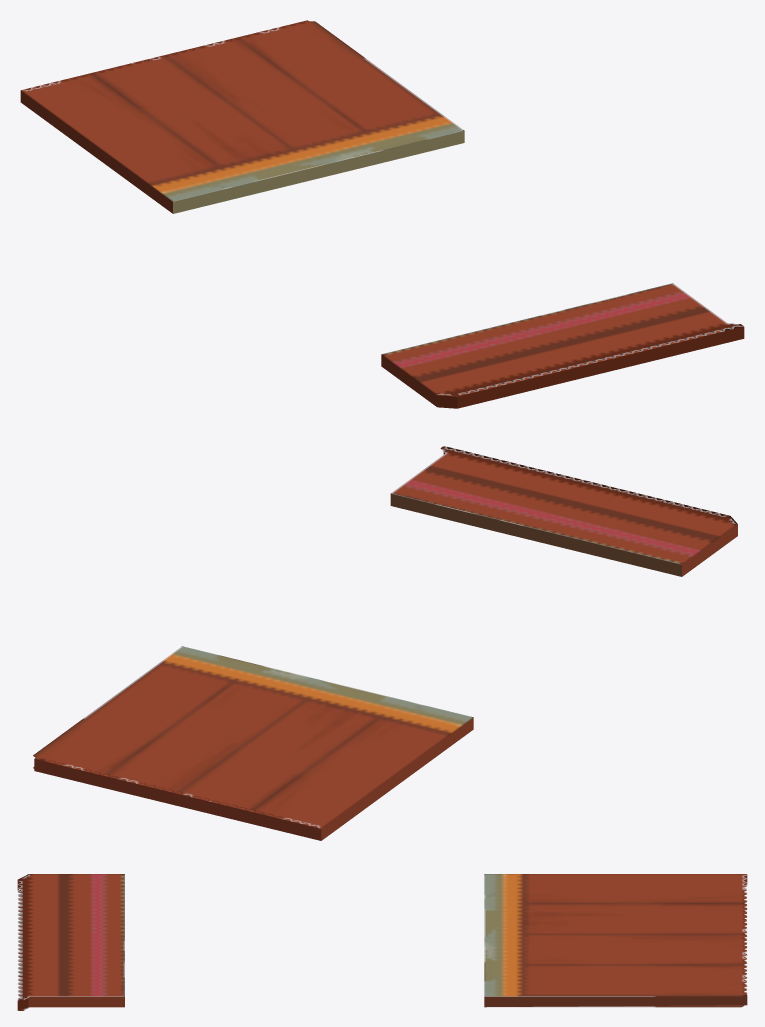
File: pz_native_location_restaurant_spiffos_01_28_frame.obj
The picture shows the model from 3 angles, top to bottom: view 1: azimuth 30°, elevation 25°; view 2: azimuth 150°, elevation 25°; view 3: azimuth 270°, elevation 25°; orthographic projection. The views are drawn at different scales.
Visible parts, largest first — view 1: pz_native_location_restaurant_spiffos_01_28_frame; view 2: pz_native_location_restaurant_spiffos_01_28_frame; view 3: pz_native_location_restaurant_spiffos_01_28_frame.
Part boxes in pixels (x1,y1,x2,y2): pz_native_location_restaurant_spiffos_01_28_frame: (20,20,744,408); pz_native_location_restaurant_spiffos_01_28_frame: (33,446,737,840); pz_native_location_restaurant_spiffos_01_28_frame: (17,874,747,1010).
Bounding box in the file's own units: 1.06 × 0.04 × 2.54.
1 material, 1 textured.
